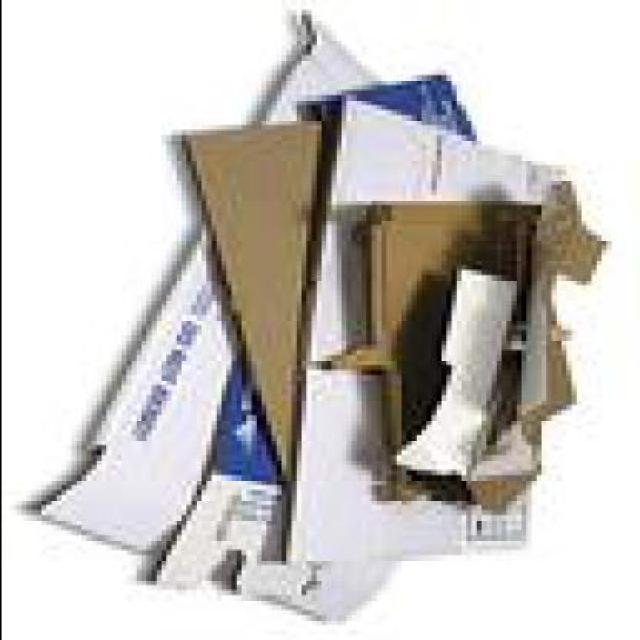CARDBOARD: (25, 6, 480, 614), (144, 69, 496, 620), (280, 100, 569, 565), (305, 175, 610, 500), (180, 115, 331, 480), (390, 240, 555, 475)
